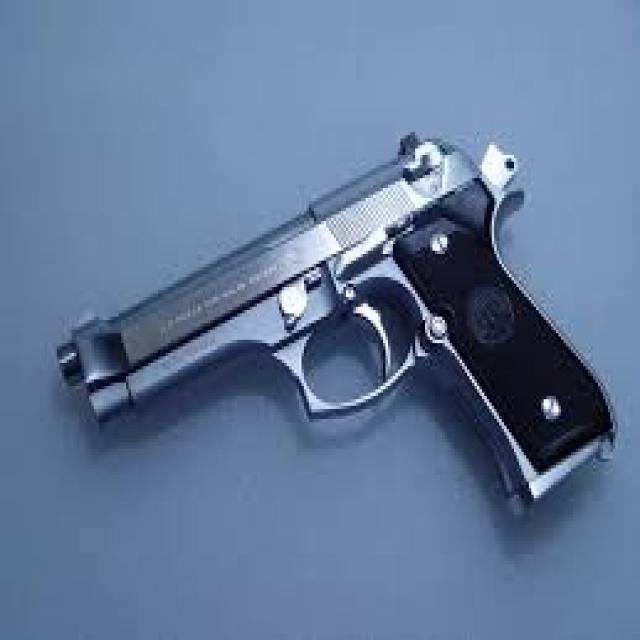Gun: (53, 135, 605, 557)
